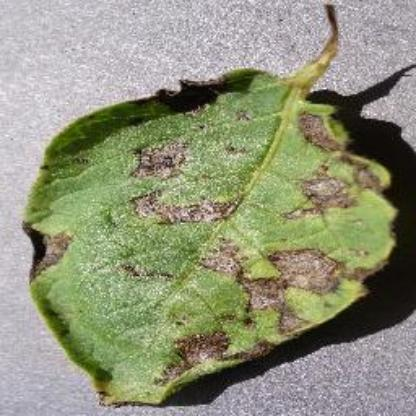Early-Blight: (24, 13, 396, 406)
